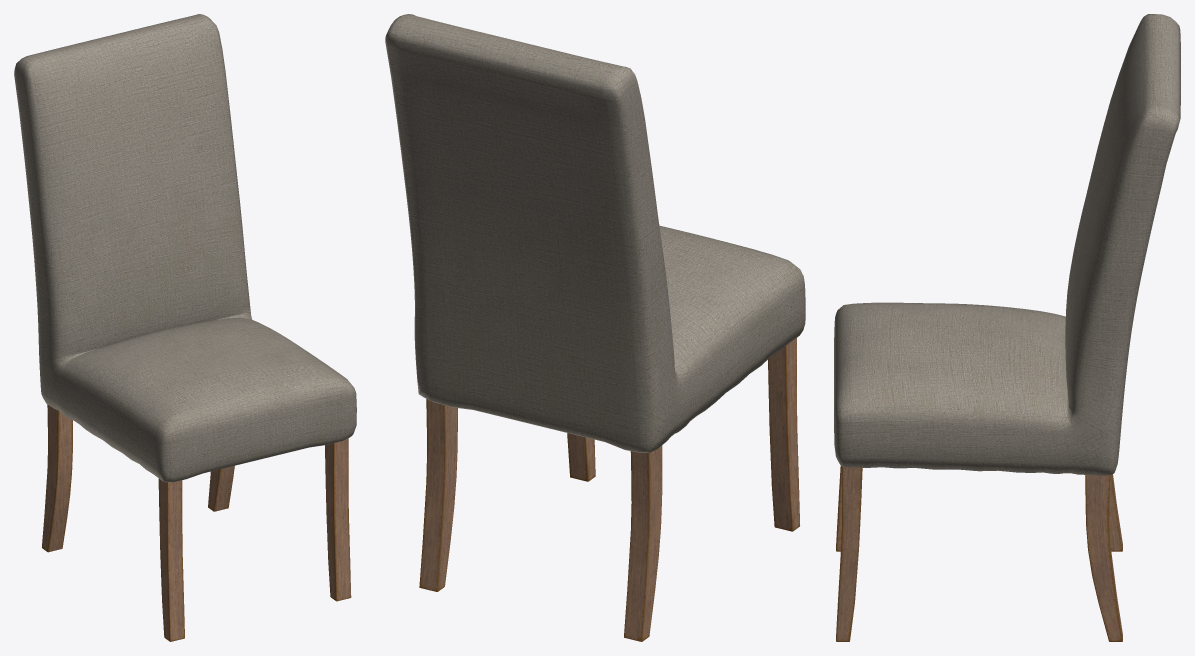
Rendered from abo-B07HSJX7YW.glb.
3 views of the same model, side by side, from view 1: azimuth 30°, elevation 25°; view 2: azimuth 150°, elevation 25°; view 3: azimuth 270°, elevation 25° (orthographic). The views are drawn at different scales.
Bounding box in the file's own units: 0.45 × 1.03 × 0.611.
1 material, 1 textured.
